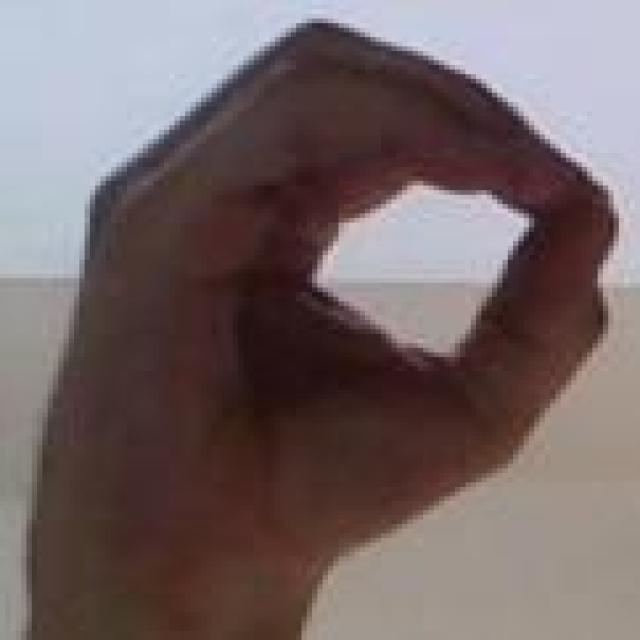O: (2, 1, 640, 562)
